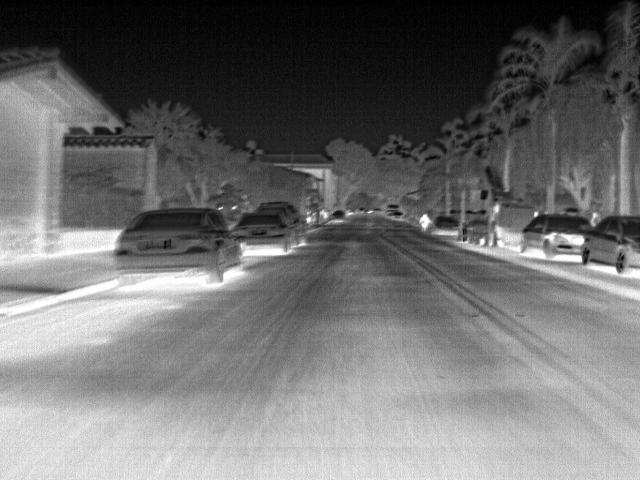car: (114, 206, 248, 289), (521, 213, 598, 260), (581, 212, 639, 274), (233, 212, 300, 253), (256, 198, 308, 242), (430, 214, 464, 235), (332, 209, 351, 223)
person: (417, 213, 433, 229)
